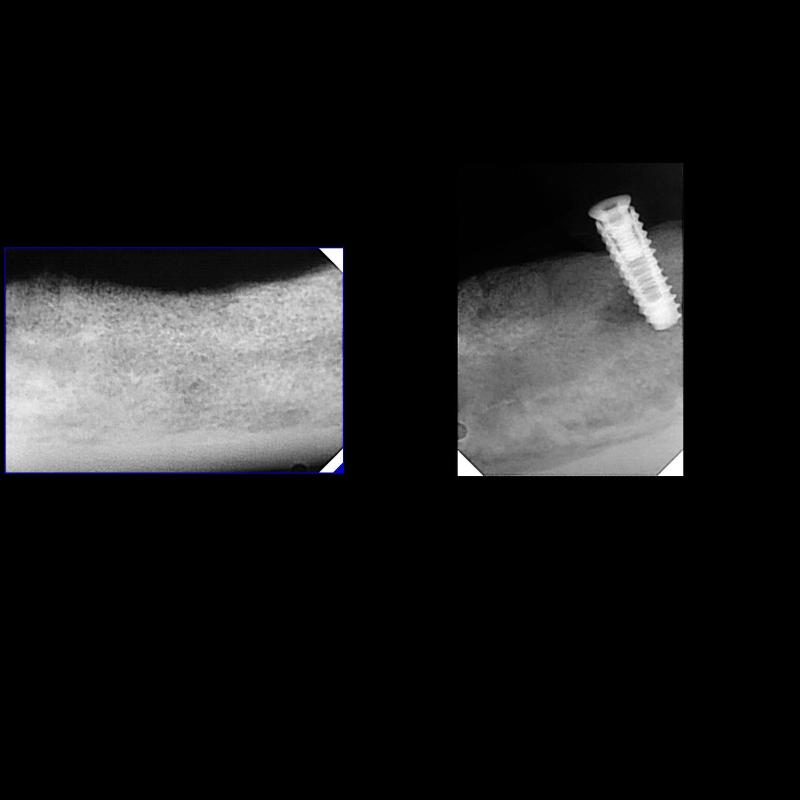osstem: (582, 193, 682, 331)
